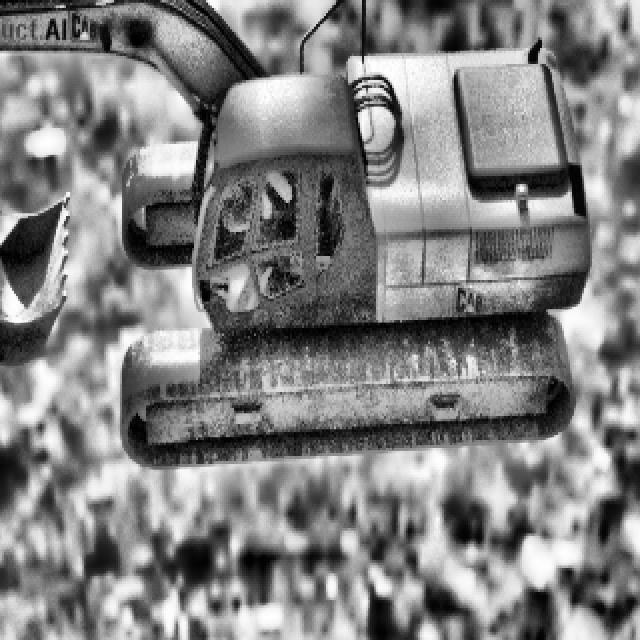excavator: (0, 0, 590, 467)
